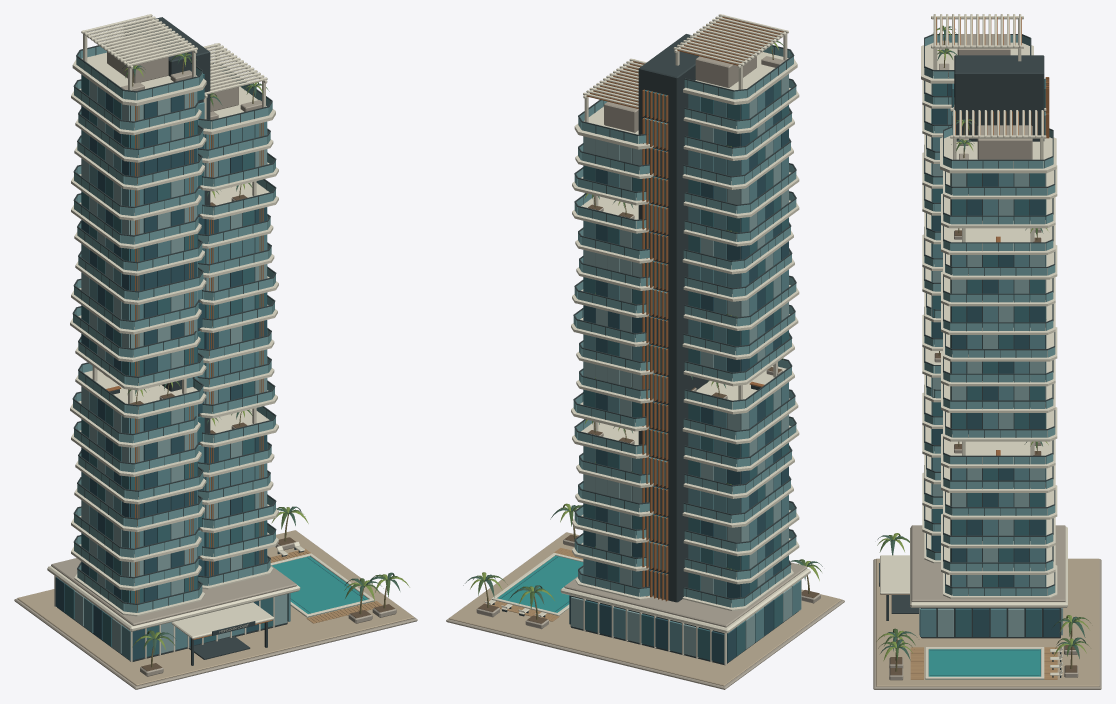
3 renders of one model, left to right at view 1: azimuth 30°, elevation 25°; view 2: azimuth 150°, elevation 25°; view 3: azimuth 270°, elevation 25°, orthographic. The views are drawn at different scales.
Visible parts, largest first — view 1: Balcony Slabs and Guards, Curtain Wall and Suites, Podium and Entry, Sky Canopy, Screens and Risers, Sky Gardens and Palms, Pool Terrace; view 2: Balcony Slabs and Guards, Curtain Wall and Suites, Screens and Risers, Podium and Entry, Sky Canopy, Pool Terrace, Sky Gardens and Palms; view 3: Balcony Slabs and Guards, Curtain Wall and Suites, Podium and Entry, Sky Canopy, Screens and Risers, Pool Terrace, Sky Gardens and Palms.
Part boxes in pixels (x1,y1,x2,y2): Balcony Slabs and Guards: (70, 79, 278, 616); Curtain Wall and Suites: (81, 74, 267, 603); Podium and Entry: (14, 530, 417, 689); Sky Canopy: (72, 14, 275, 134); Screens and Risers: (124, 17, 263, 610); Sky Gardens and Palms: (92, 52, 409, 676); Pool Terrace: (270, 541, 382, 623); Balcony Slabs and Guards: (571, 78, 799, 610); Curtain Wall and Suites: (583, 74, 788, 602); Screens and Risers: (638, 34, 708, 602); Podium and Entry: (446, 532, 844, 689); Sky Canopy: (574, 14, 797, 149); Pool Terrace: (484, 548, 583, 621); Sky Gardens and Palms: (463, 41, 822, 629); Balcony Slabs and Guards: (922, 80, 1057, 598); Curtain Wall and Suites: (931, 83, 1046, 593); Podium and Entry: (873, 525, 1101, 689); Sky Canopy: (921, 14, 1056, 173); Screens and Risers: (950, 55, 1049, 585); Pool Terrace: (910, 646, 1062, 679); Sky Gardens and Palms: (876, 25, 1090, 680).
Size of the model in its own units: 31.8 by 64.03 by 23.7.
